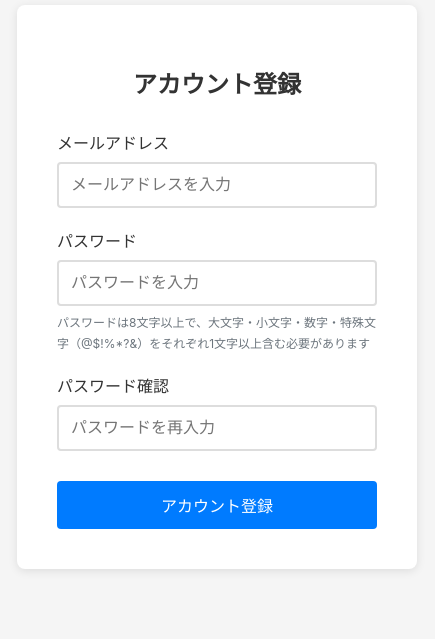
Test case: RegisterForm › validates password confirmation match
Type "test@example.com" into the field labelled "メールアドレス" at x=217, y=185, box [57,162,377,208]
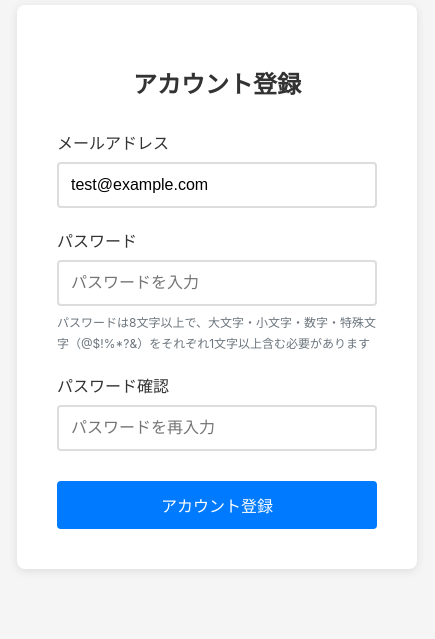
Type "Password123!" into the password field labelled "パスワード" at x=217, y=283, box [57,260,377,306]
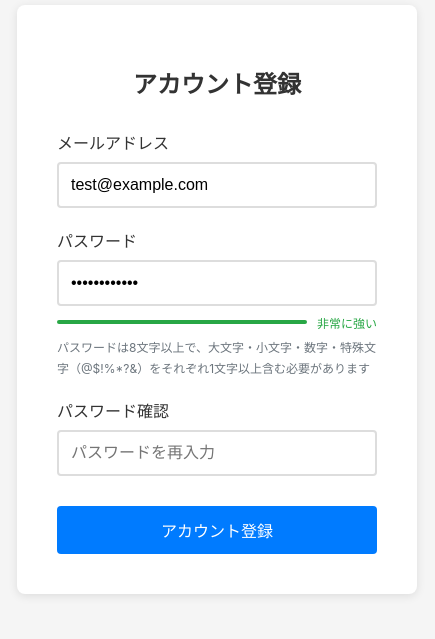
Type "DifferentPassword123!" into the password field labelled "パスワード確認" at x=217, y=452, box [57,430,377,476]
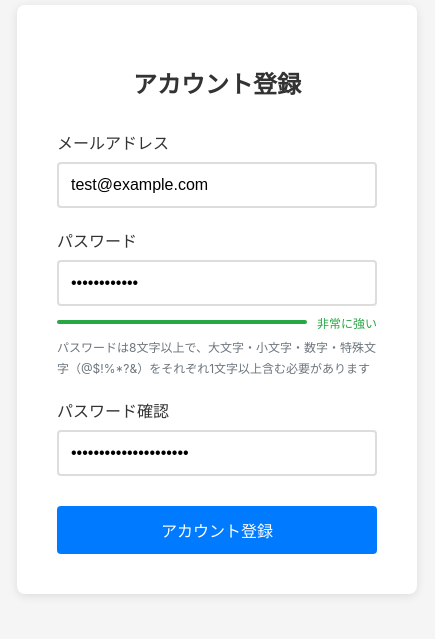
Click the button "アカウント登録" at x=217, y=530, box [57,506,377,554]
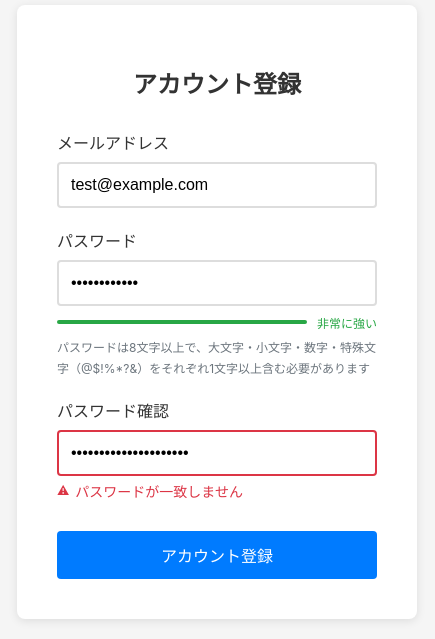
Expected: the text "パスワードが一致しません" is shown, [75,482,243,500]
